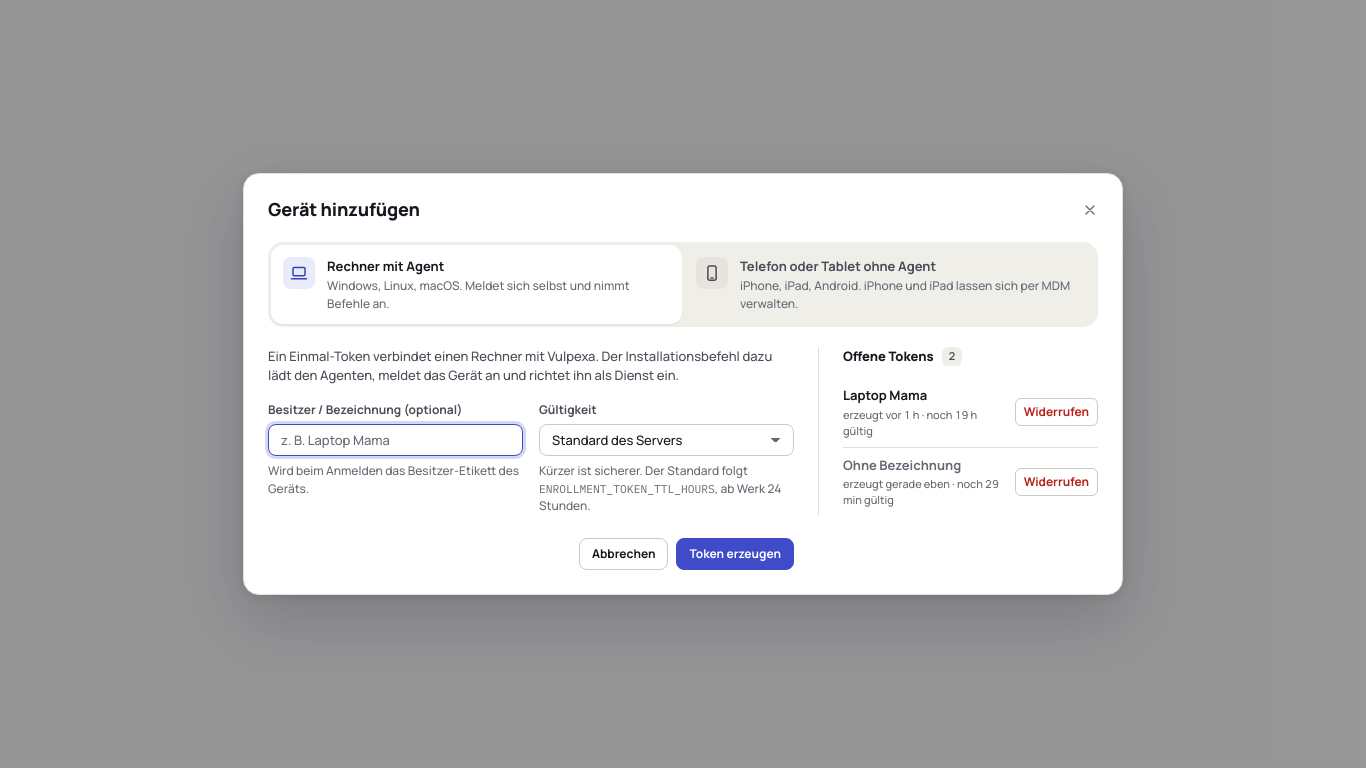
Scenario: EnrollModal › sends a chosen validity and shows the install command per system
Select "8 Stunden" in the dropdown labelled "Gültigkeit" at {"x": 666, "y": 440}, box 539,424 -> 794,456
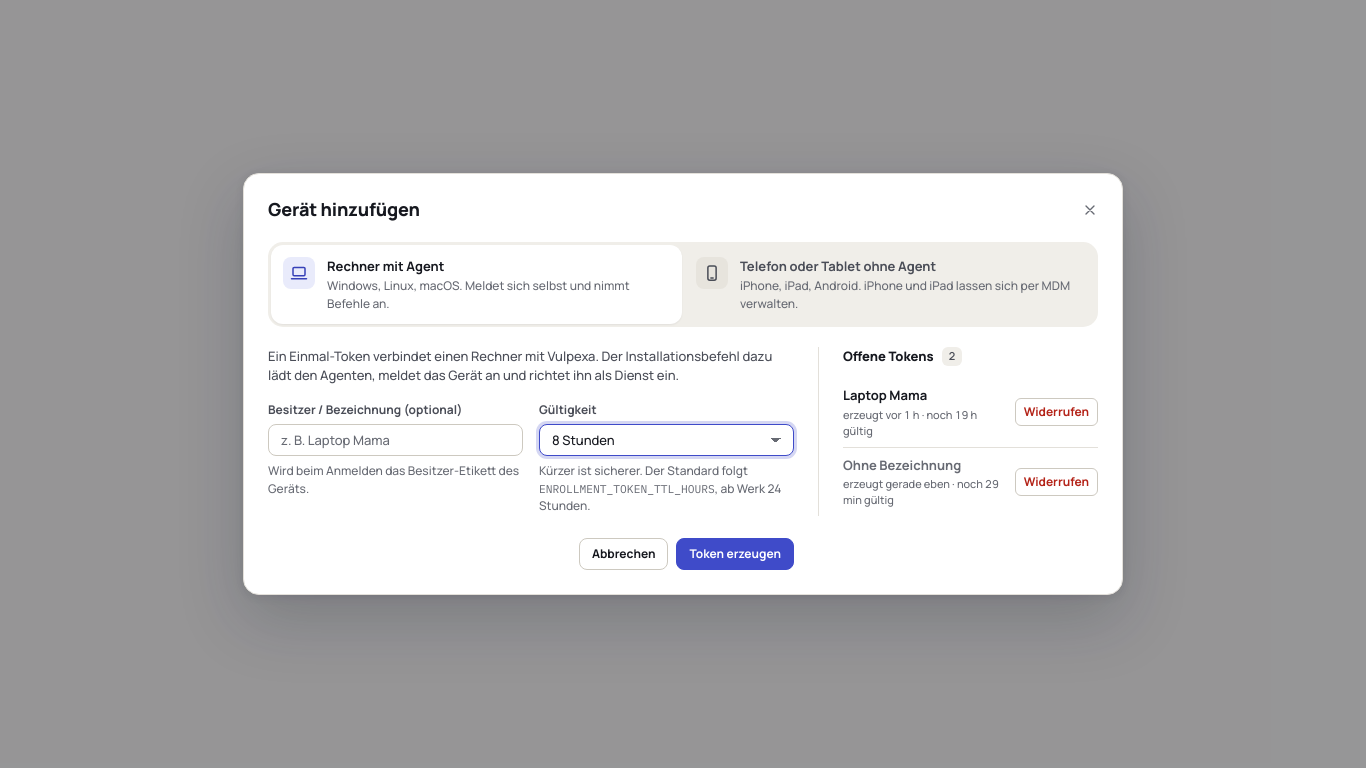
Type "Büro-PC" into the field labelled "Besitzer / Bezeichnung (optional)".
click(396, 440); type("Büro-PC")  # box 268,424 -> 523,456
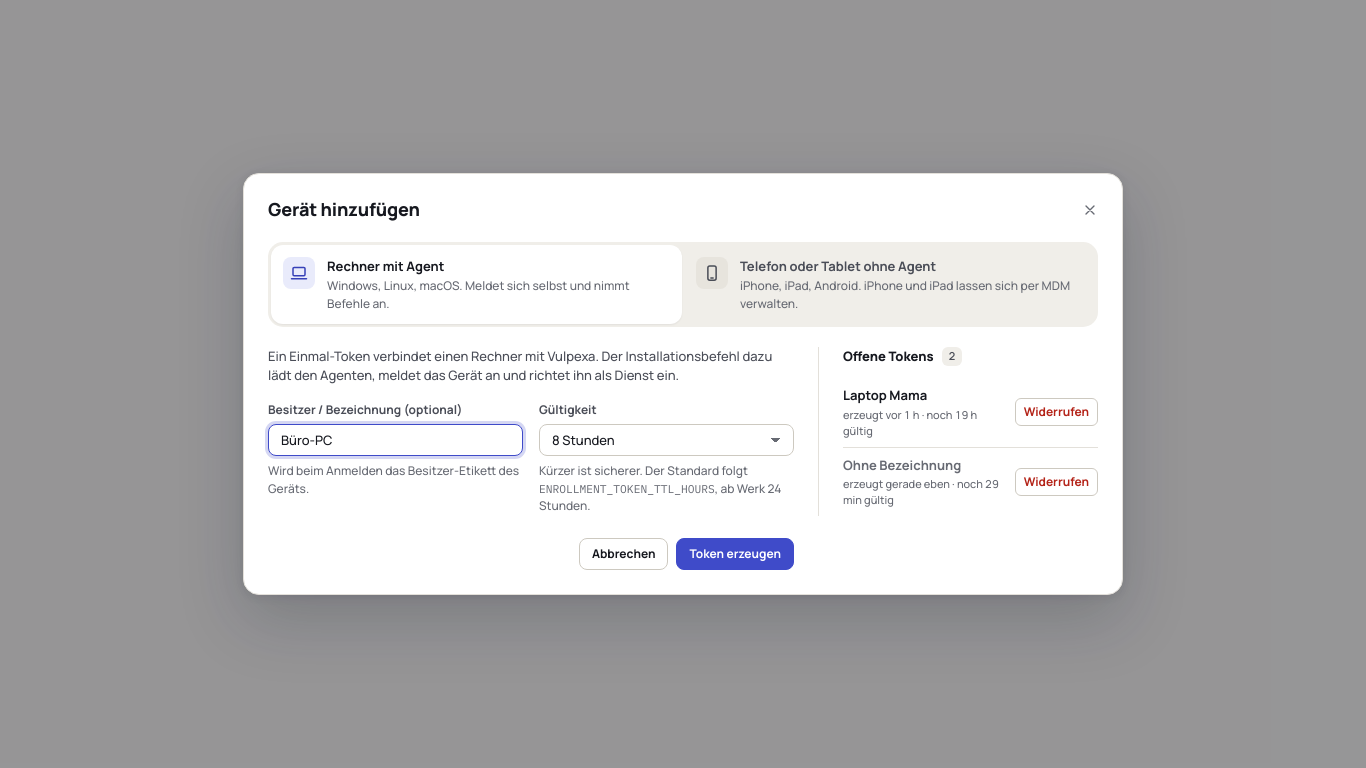
Click the button "Token erzeugen".
click(735, 554)  # box 676,538 -> 794,570
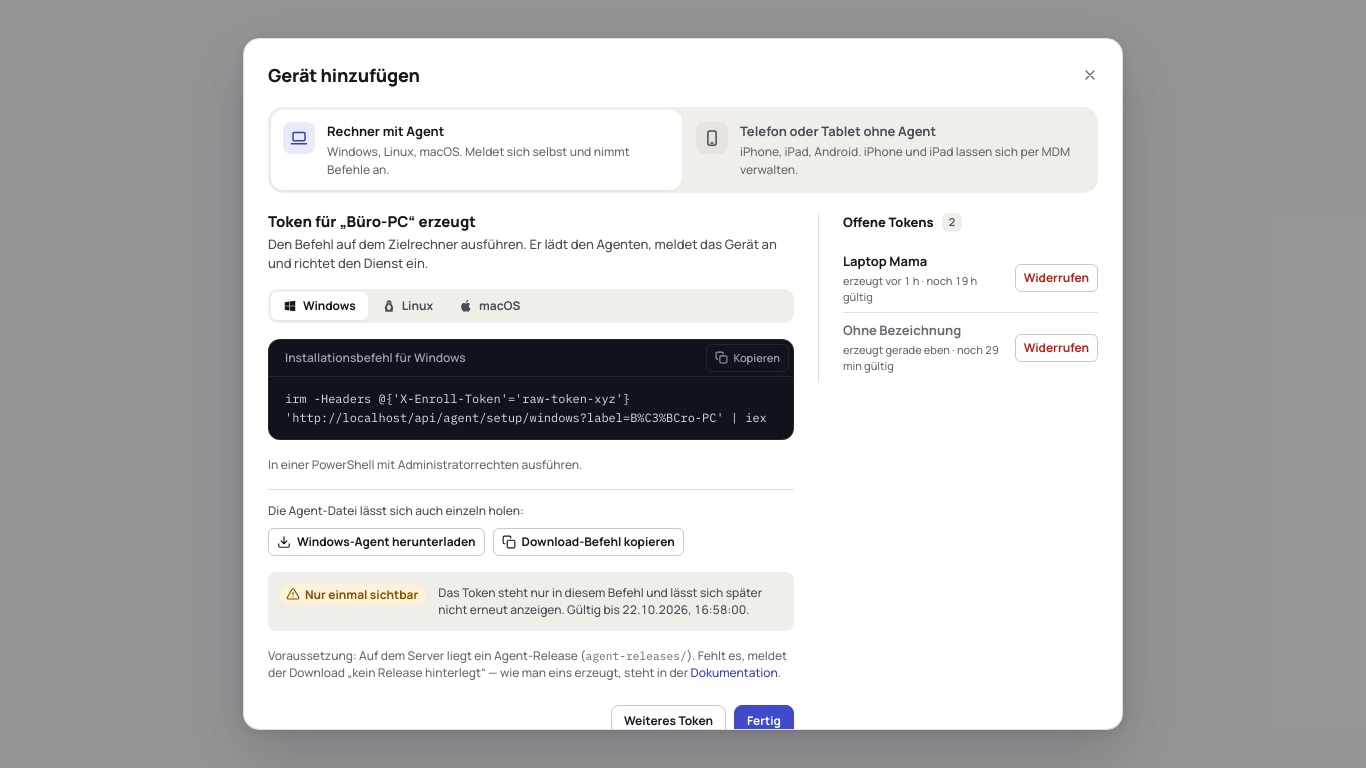
expect the element "Installationsbefehl für Windows" shows "irm -Headers @{'X-Enroll-Token'='raw-token-xyz'}": met, box 285,391 -> 767,425
expect the element "Installationsbefehl für Windows" shows "/api/agent/setup/windows?label=B%C3%BCro-PC": met, box 285,391 -> 767,425
expect the text "Nur einmal sichtbar" is shown: met, box 280,584 -> 426,605
Click the tab "Linux".
click(407, 306)  # box 370,292 -> 445,320
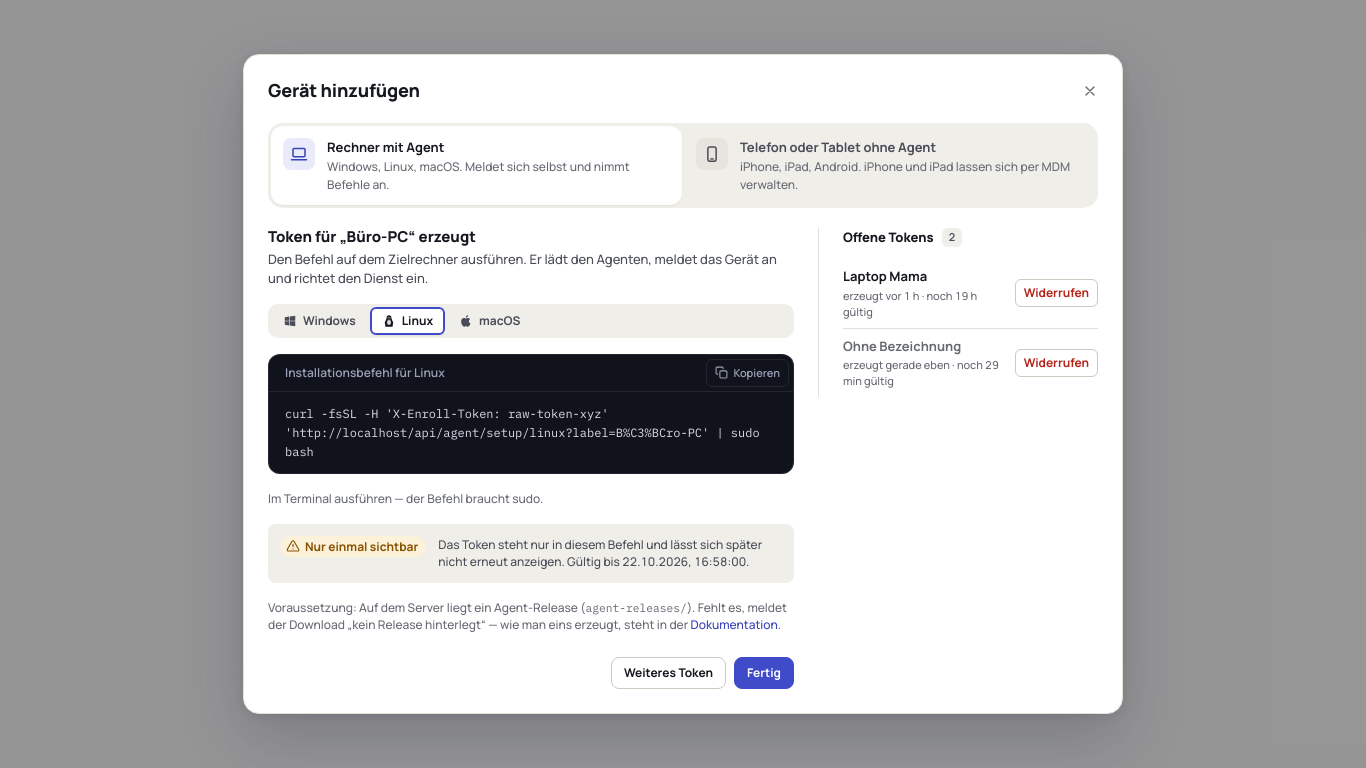
expect the element "Installationsbefehl für Linux" shows "| sudo bash": met, box 285,406 -> 767,459
expect the element "Installationsbefehl für Linux" shows "curl -fsSL -H 'X-Enroll-Token: raw-token-xyz'": met, box 285,406 -> 767,459
expect the button "Windows-Agent herunterladen" is gone: met
Click the tab "macOS".
click(490, 321)  # box 447,307 -> 532,335
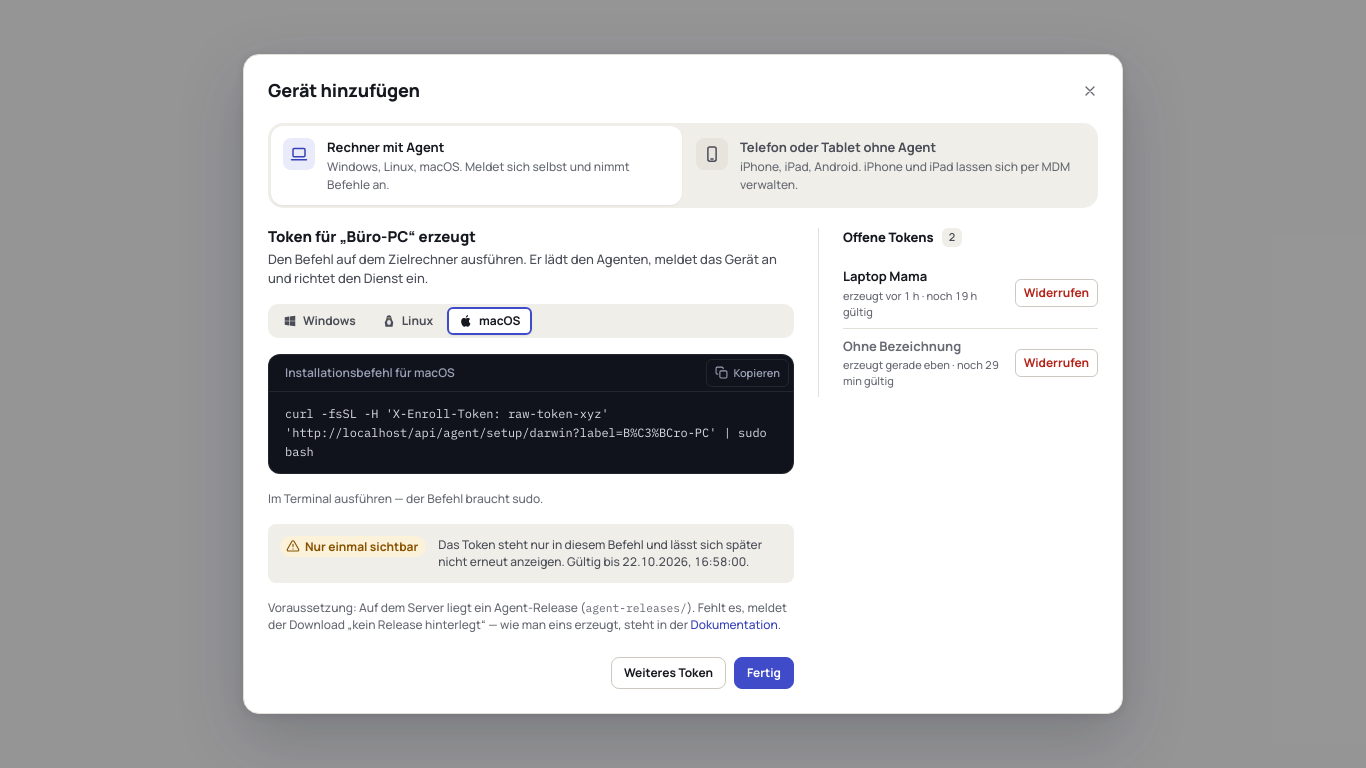
expect the element "Installationsbefehl für macOS" shows "/api/agent/setup/darwin": met, box 285,406 -> 774,459
